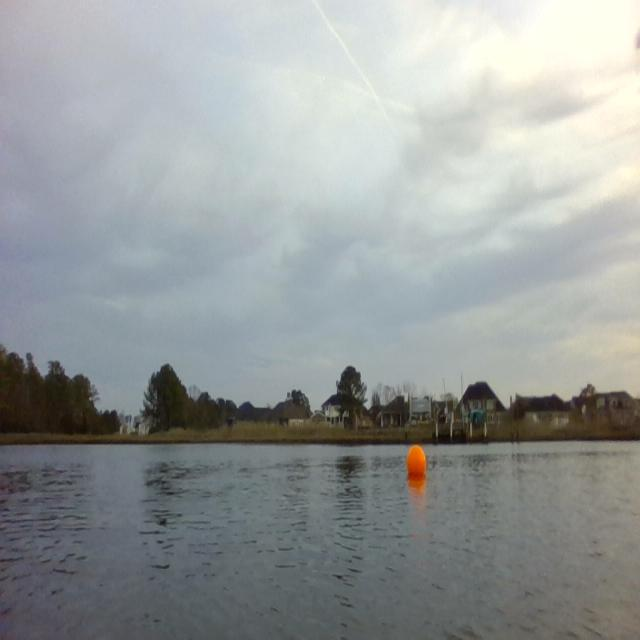Buoy: (405, 442, 428, 480)
